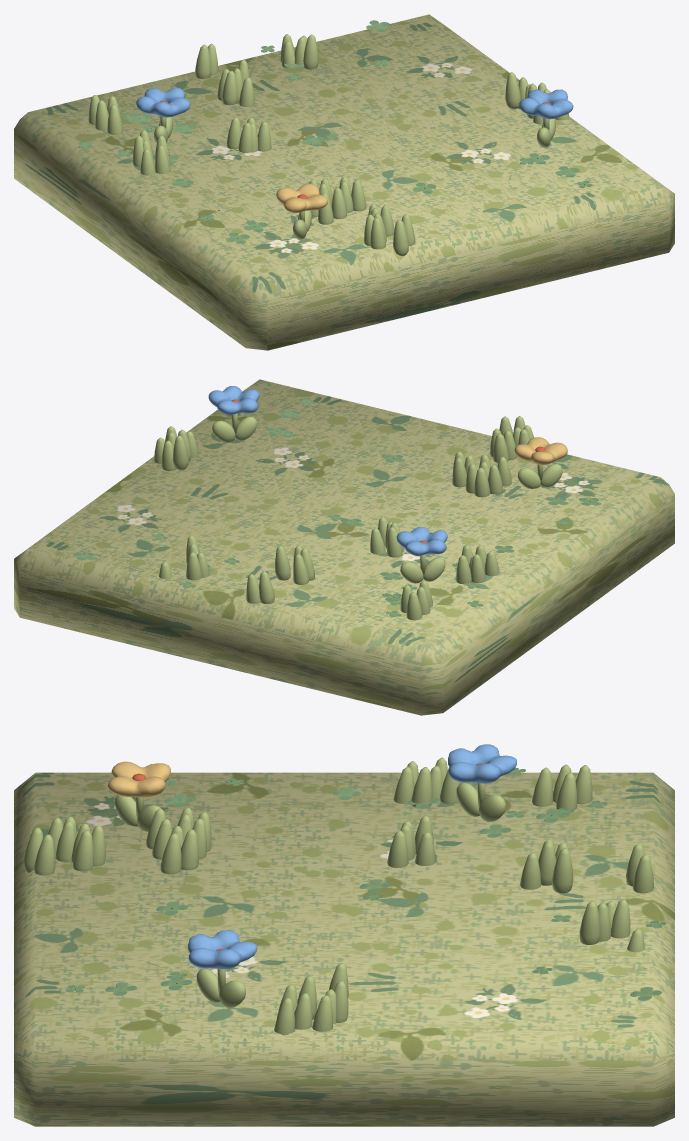
Rendered from ground.fbx.
3 renders of one model, top to bottom at view 1: azimuth 30°, elevation 25°; view 2: azimuth 150°, elevation 25°; view 3: azimuth 270°, elevation 25°, orthographic. The views are drawn at different scales.
Parts seen in each view (by area): view 1: Cylinder.190; view 2: Cylinder.190; view 3: Cylinder.190.
Part boxes in pixels (x1,y1,x2,y2): Cylinder.190: [14, 14, 674, 350]; Cylinder.190: [14, 379, 674, 715]; Cylinder.190: [14, 744, 674, 1126].
Bounding box in the file's own units: 200 × 49.41 × 200.
7 materials, 3 textured.
